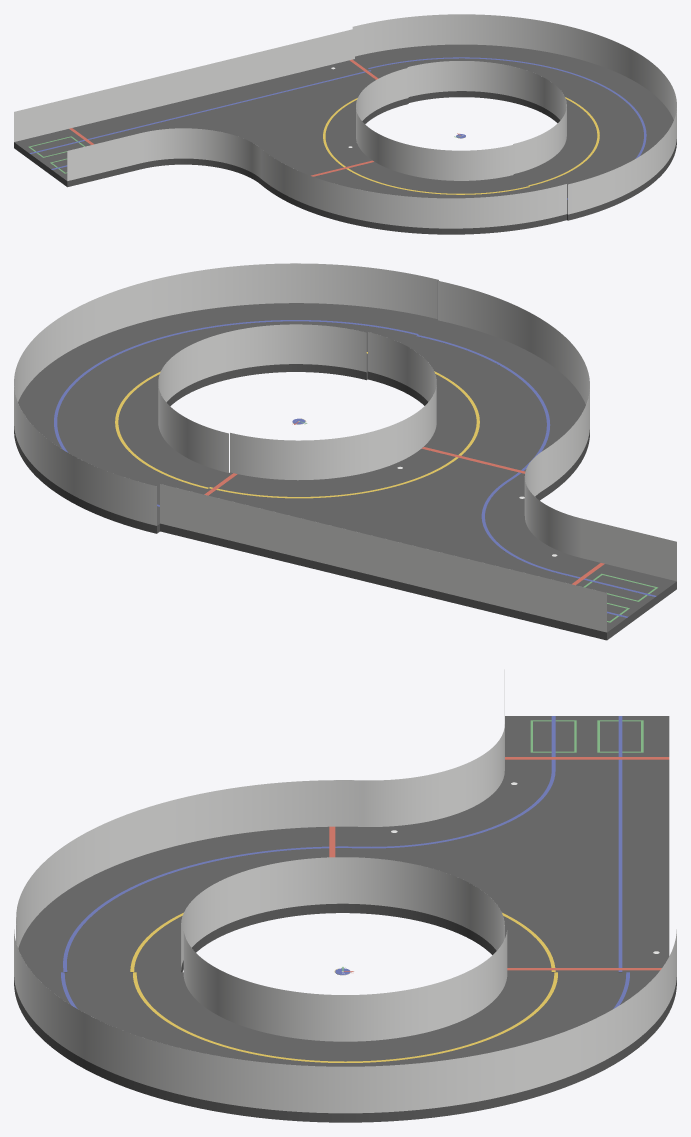
File: Small_oval.dae
3 renders of one model, top to bottom at view 1: azimuth 30°, elevation 25°; view 2: azimuth 150°, elevation 25°; view 3: azimuth 270°, elevation 25°, orthographic. The views are drawn at different scales.
Parts seen in each view (by area): view 1: Small Oval; view 2: Small Oval; view 3: Small Oval.
Part boxes in pixels (box(x1,y1,x2,y2)): Small Oval: box(14, 14, 676, 234); Small Oval: box(14, 263, 676, 640); Small Oval: box(14, 669, 676, 1122).
Size of the model in its own units: 4.65 by 3.28 by 0.3048.
